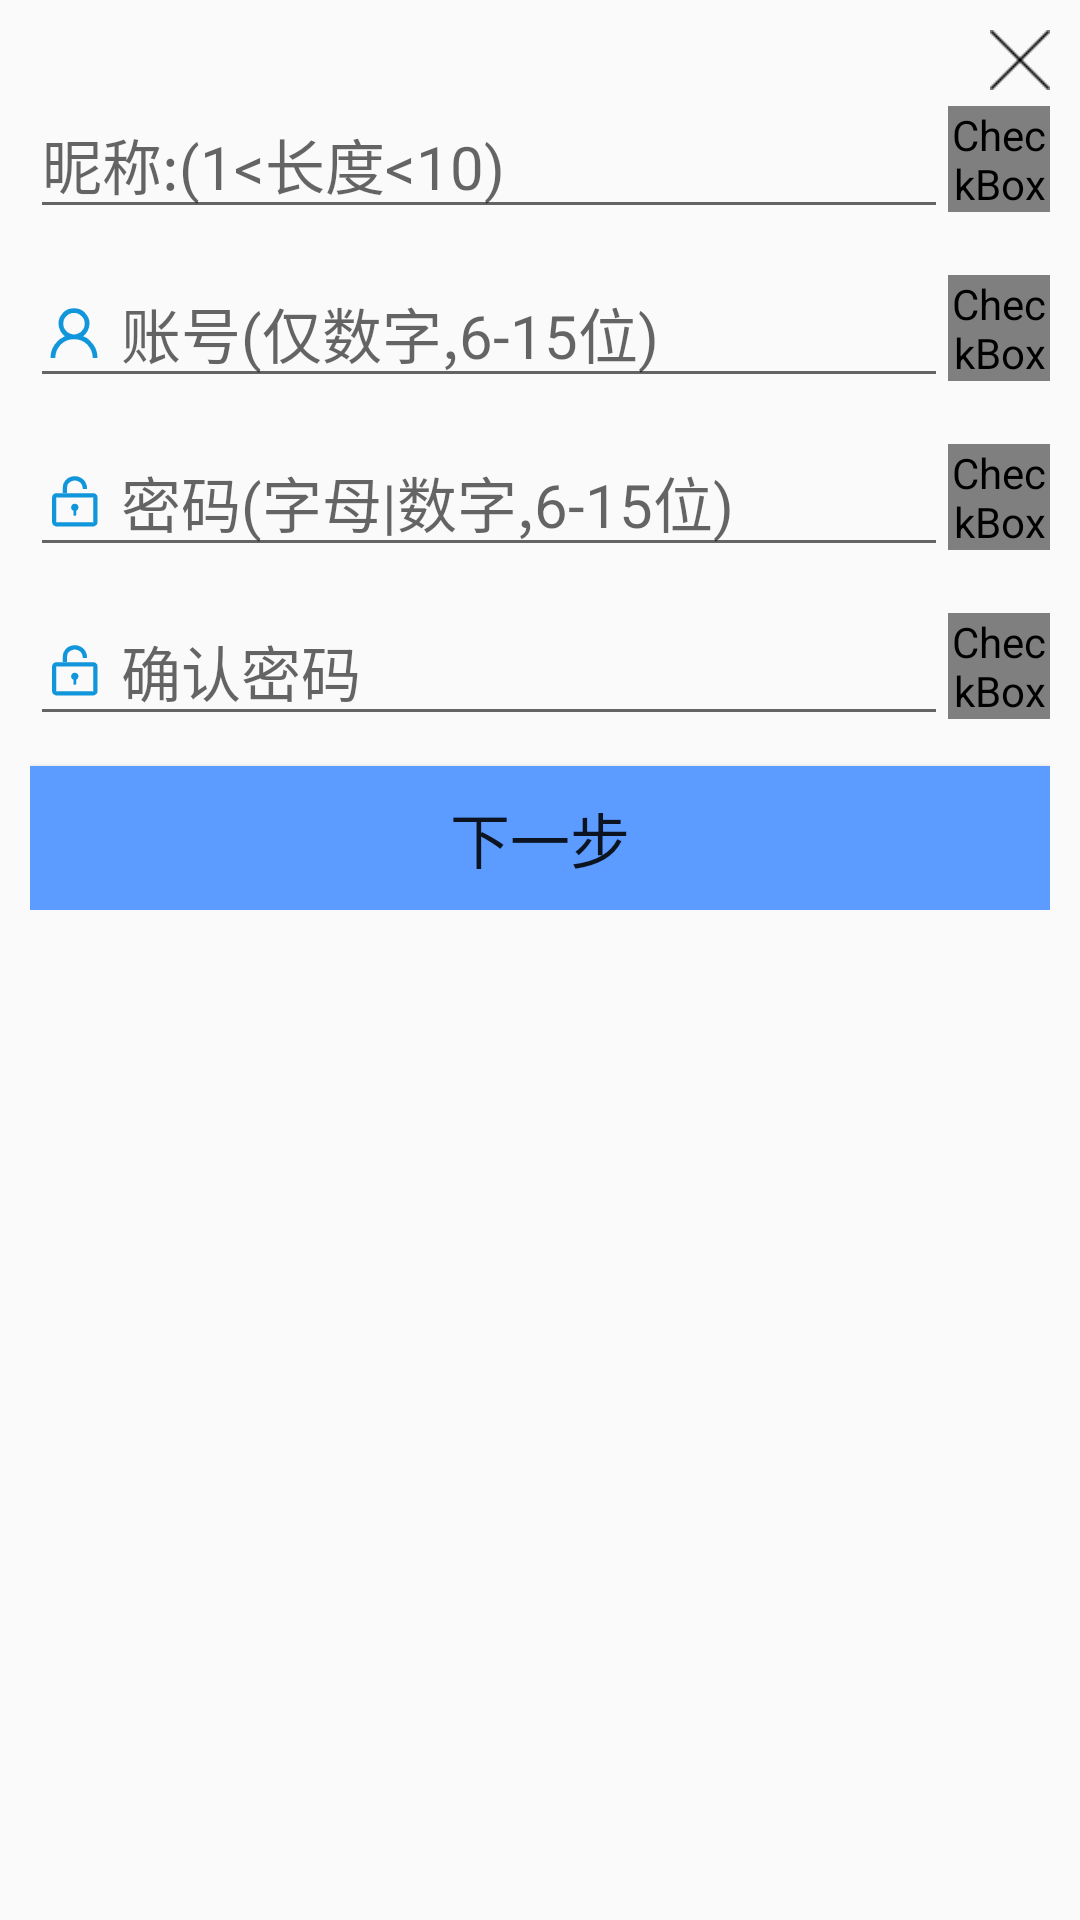

Screen size 1080px x 1920px. Icon name, then its box in pixels as (x1, y1, x2, y2):
close: (990, 30, 1050, 90)
